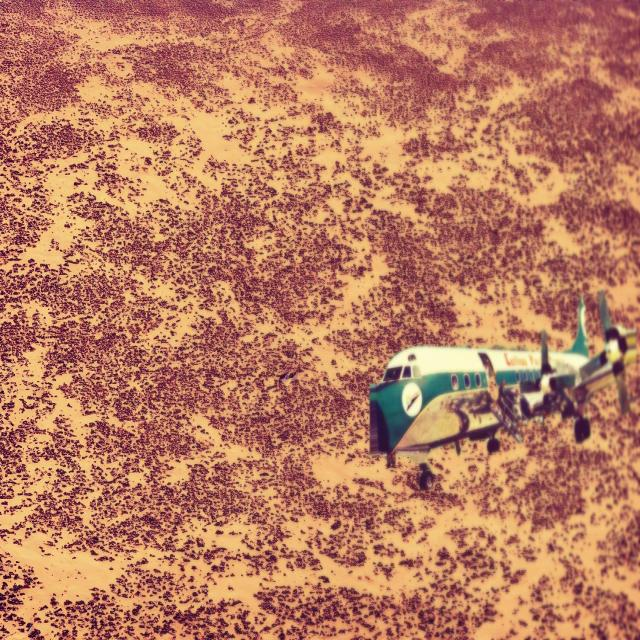airplane: (368, 288, 637, 491)
